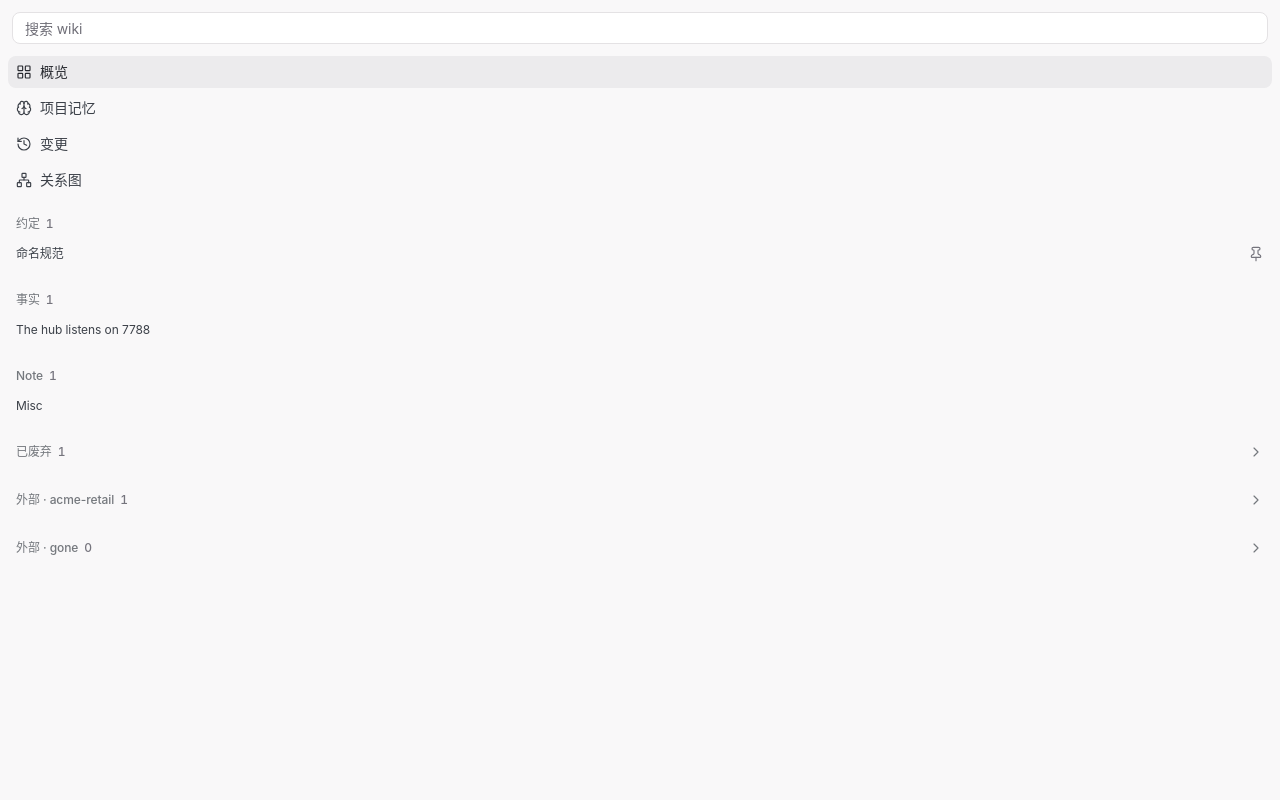
Scenario: WikiView › shows the bundles the project mounts, read-only
The width and height of the screenshot is (1280, 800).
Click the text "外部 · acme-retail" at (65, 500), box left=16, top=492, right=114, bottom=508
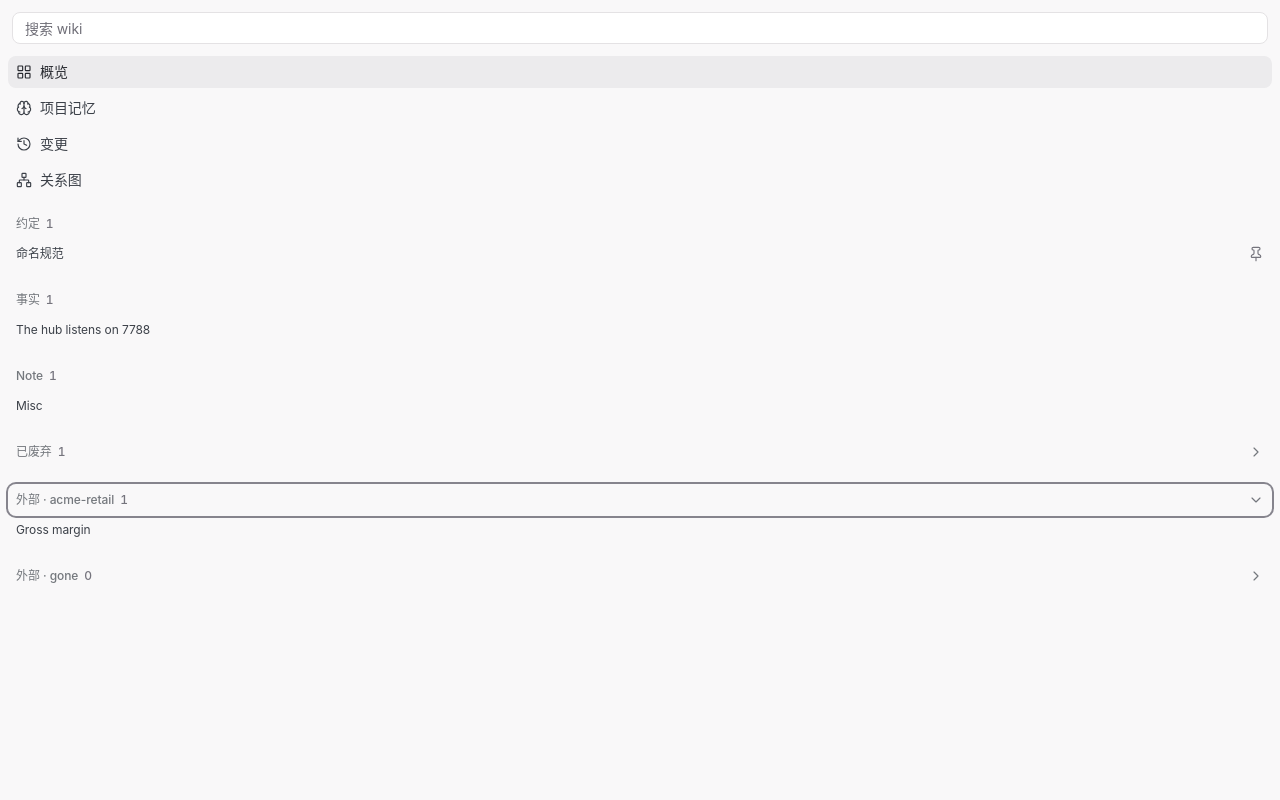
Click the text "外部 · gone" at (47, 576), box left=16, top=568, right=78, bottom=584
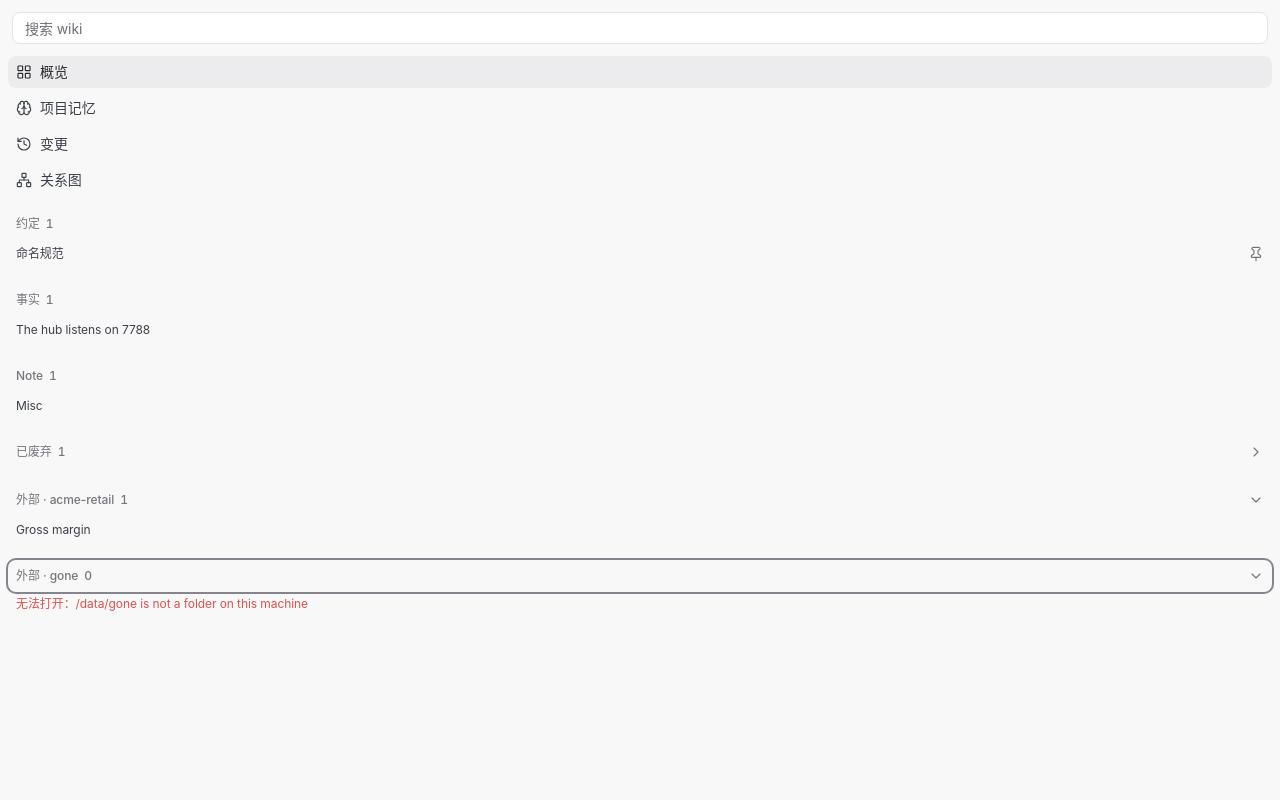
Now the text "无法打开：/data/gone is not a folder on this machine" is shown, box left=16, top=596, right=308, bottom=611
